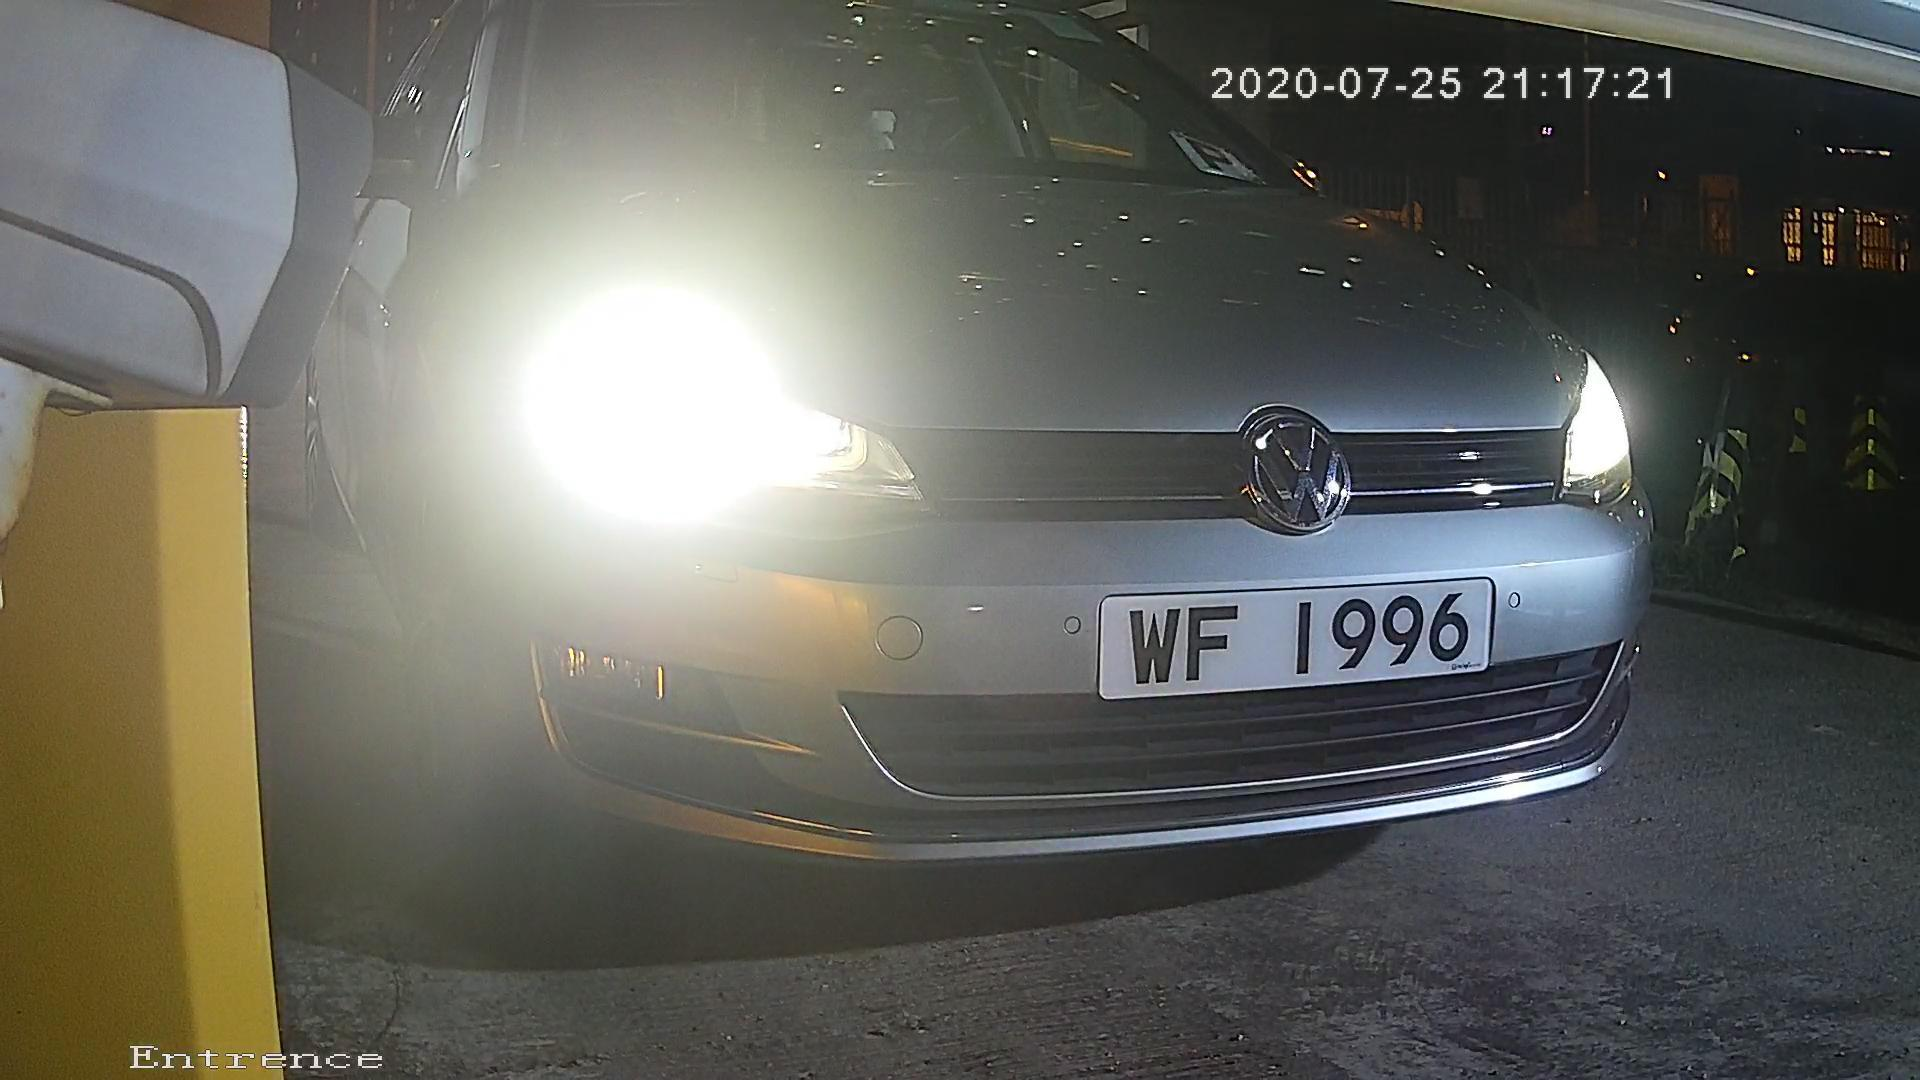privatecar: (343, 15, 1741, 942)
